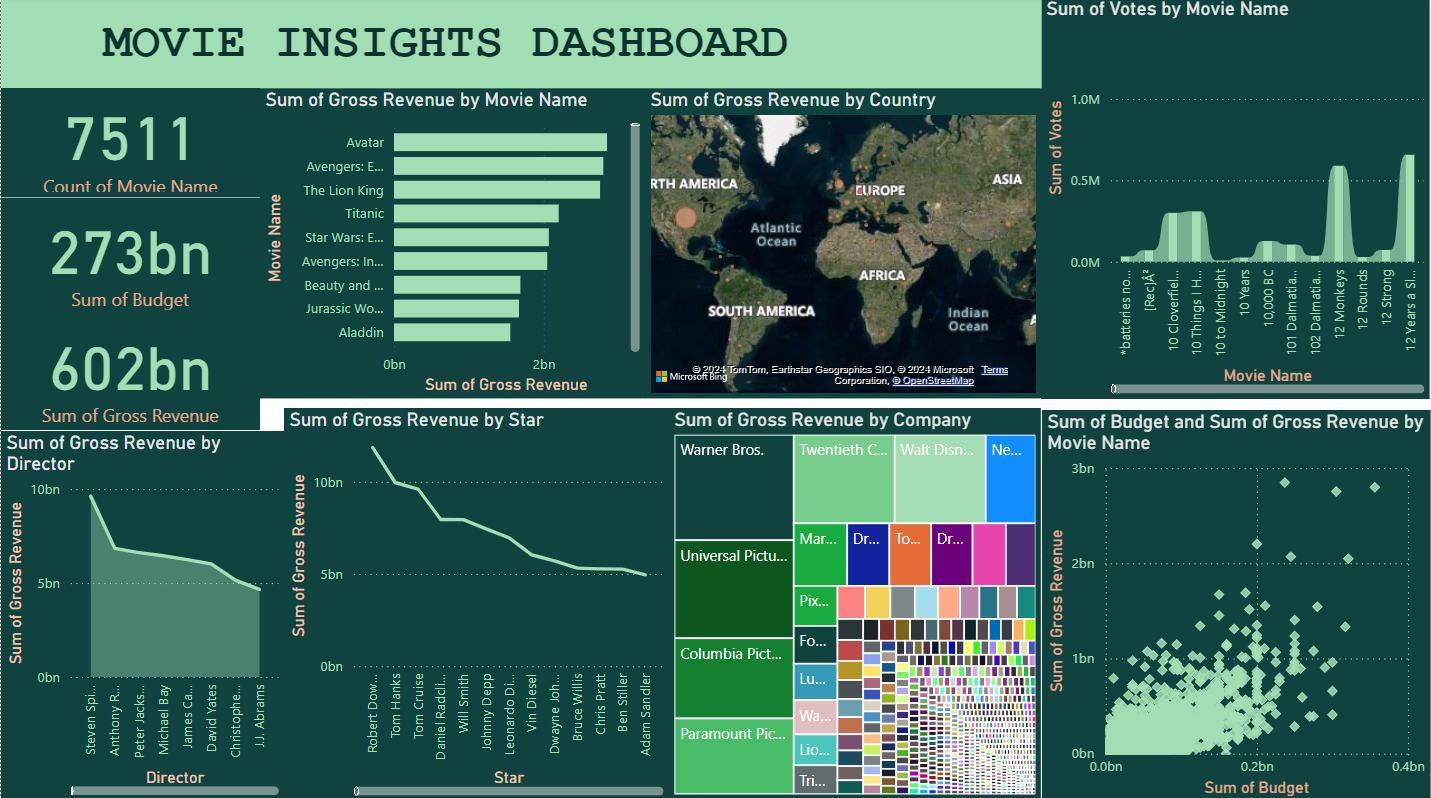

The dashboard page shown, as its layout file describes it:
{"tool":"powerbi","page":{"name":"Page 1","canvas":[1280,720],"ordinal":0},"visuals":[{"type":"barChart","fields":{"Category":["Movie dataset new.Movie Name"],"Y":["Movie dataset new.Gross Revenue"]},"box":[231.7,81.7,345,278.3],"z":0},{"type":"lineChart","fields":{"Category":["Movie dataset new.Star"],"Y":["Movie dataset new.Gross Revenue"]},"box":[253.6,368.1,344.9,352.2],"z":1000},{"type":"map","fields":{"Category":["Movie dataset new.Country"],"Size":["Movie dataset new.Gross Revenue"]},"box":[576.7,81.7,355,278.3],"z":2000},{"type":"treemap","fields":{"Group":["Movie dataset new.Company"],"Values":["Movie dataset new.Gross Revenue"]},"box":[598.6,368.1,333.3,350.7],"z":3000},{"type":"ribbonChart","fields":{"Category":["Movie dataset new.Movie Name"],"Y":["Movie dataset new.Votes"]},"box":[931.7,0,348.3,360],"z":4000},{"type":"scatterChart","fields":{"Category":["Movie dataset new.Movie Name"],"X":["Movie dataset new.Budget"],"Y":["Movie dataset new.Gross Revenue"]},"box":[931.9,369.6,347.8,350.7],"z":5000},{"type":"textbox","box":[0,1.4,931.9,79.7],"z":6000},{"type":"areaChart","fields":{"Category":["Movie dataset new.Director"],"Y":["Movie dataset new.Gross Revenue"]},"box":[0,388.8,253.8,331.2],"z":7000},{"type":"card","fields":{"Values":["Movie dataset new.Movie Name"]},"box":[0,81.7,231.7,98.3],"z":8000},{"type":"card","fields":{"Values":["Movie dataset new.Budget"]},"box":[0,180,231.7,105],"z":9000},{"type":"card","fields":{"Values":["Movie dataset new.Gross Revenue"]},"box":[0,285,231.7,103.3],"z":10000}]}

Visuals, with their boxes in screenshot pixels (x1, y1, x2, y2), scaled from the page's 1280x720 canvas onto the 1431x798 screenshot:
barChart - Movie dataset new.Movie Name x Movie dataset new.Gross Revenue: crop(259, 91, 645, 399)
lineChart - Movie dataset new.Star x Movie dataset new.Gross Revenue: crop(284, 408, 669, 797)
map - Movie dataset new.Country x Movie dataset new.Gross Revenue: crop(645, 91, 1042, 399)
treemap - Movie dataset new.Company x Movie dataset new.Gross Revenue: crop(669, 408, 1042, 797)
ribbonChart - Movie dataset new.Movie Name x Movie dataset new.Votes: crop(1042, 0, 1430, 399)
scatterChart - Movie dataset new.Movie Name x Movie dataset new.Budget: crop(1042, 410, 1430, 797)
textbox: crop(0, 2, 1042, 90)
areaChart - Movie dataset new.Director x Movie dataset new.Gross Revenue: crop(0, 431, 284, 797)
card - Movie dataset new.Movie Name: crop(0, 91, 259, 200)
card - Movie dataset new.Budget: crop(0, 200, 259, 316)
card - Movie dataset new.Gross Revenue: crop(0, 316, 259, 430)
